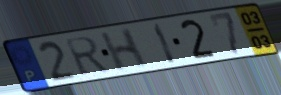2: (37, 39, 79, 84), (180, 18, 218, 60)
7: (206, 9, 241, 57)
H: (98, 26, 150, 74)
I: (151, 21, 180, 66)
R: (62, 35, 112, 78)
